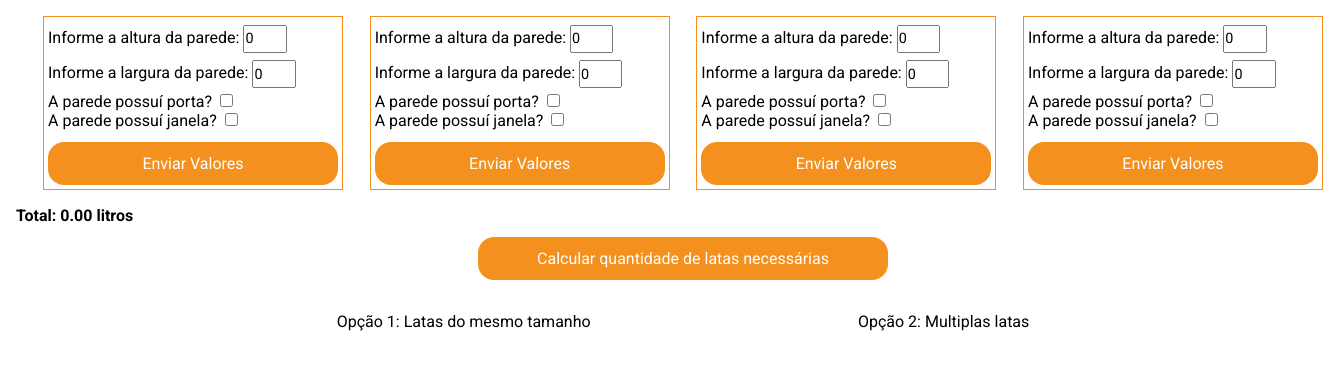
testa os inputs › os checkbox podem ser clicados
Click the checkbox labelled "A parede possuí porta?": point(227, 100) [220, 94, 233, 107]
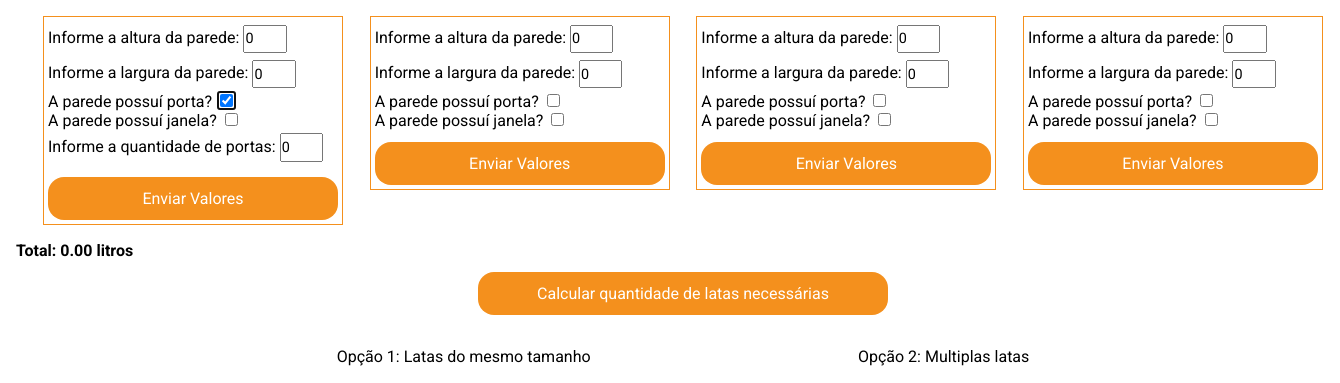
expect the checkbox labelled "A parede possuí porta?" holds "true": met, box [220, 94, 233, 107]
